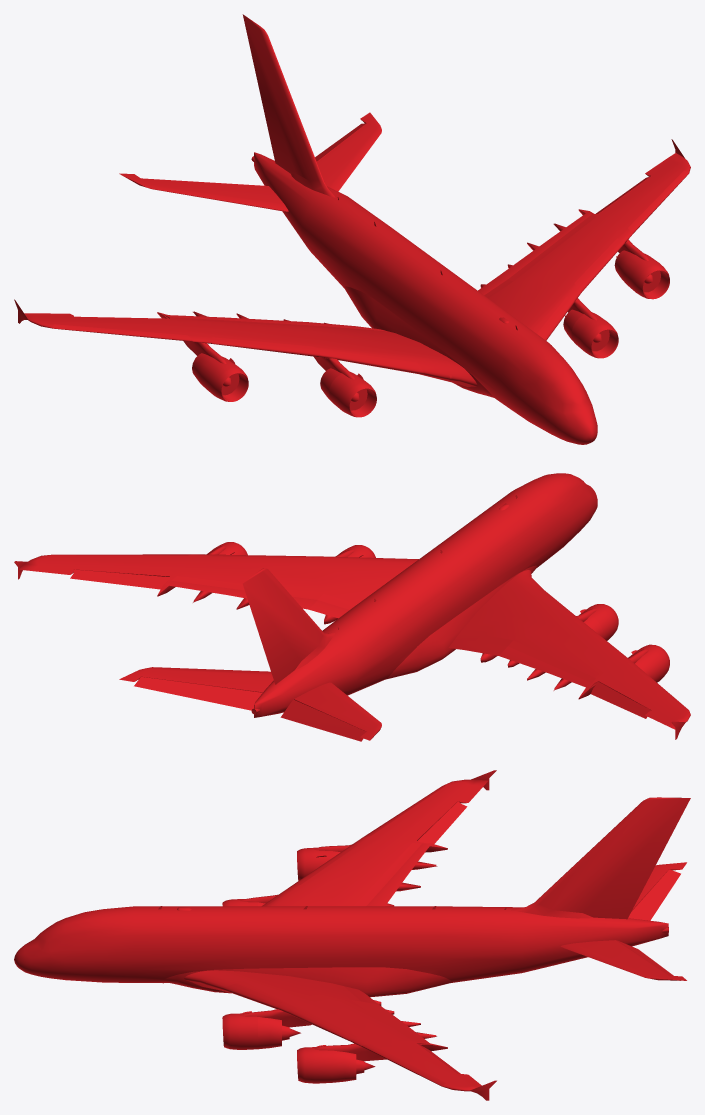
3 renders of one model, top to bottom at view 1: azimuth 30°, elevation 25°; view 2: azimuth 150°, elevation 25°; view 3: azimuth 270°, elevation 25°, orthographic. The views are drawn at different scales.
Parts seen in each view (by area): view 1: Object_11_material03_0, Object_5_material00_0, Object_7_material02_0; view 2: Object_11_material03_0, Object_5_material00_0, Object_7_material02_0; view 3: Object_5_material00_0, Object_11_material03_0, Object_7_material02_0.
Boxes of the visible parts, box(x1,y1,x2,y2) form: Object_11_material03_0: box(24, 112, 690, 417); Object_5_material00_0: box(254, 152, 597, 444); Object_7_material02_0: box(14, 14, 684, 417); Object_11_material03_0: box(19, 546, 690, 741); Object_5_material00_0: box(254, 473, 597, 717); Object_7_material02_0: box(14, 542, 685, 739); Object_5_material00_0: box(14, 906, 668, 997); Object_11_material03_0: box(184, 779, 686, 1091); Object_7_material02_0: box(222, 770, 690, 1100).
Bounding box in the file's own units: 7.24 × 2.1 × 6.66.
